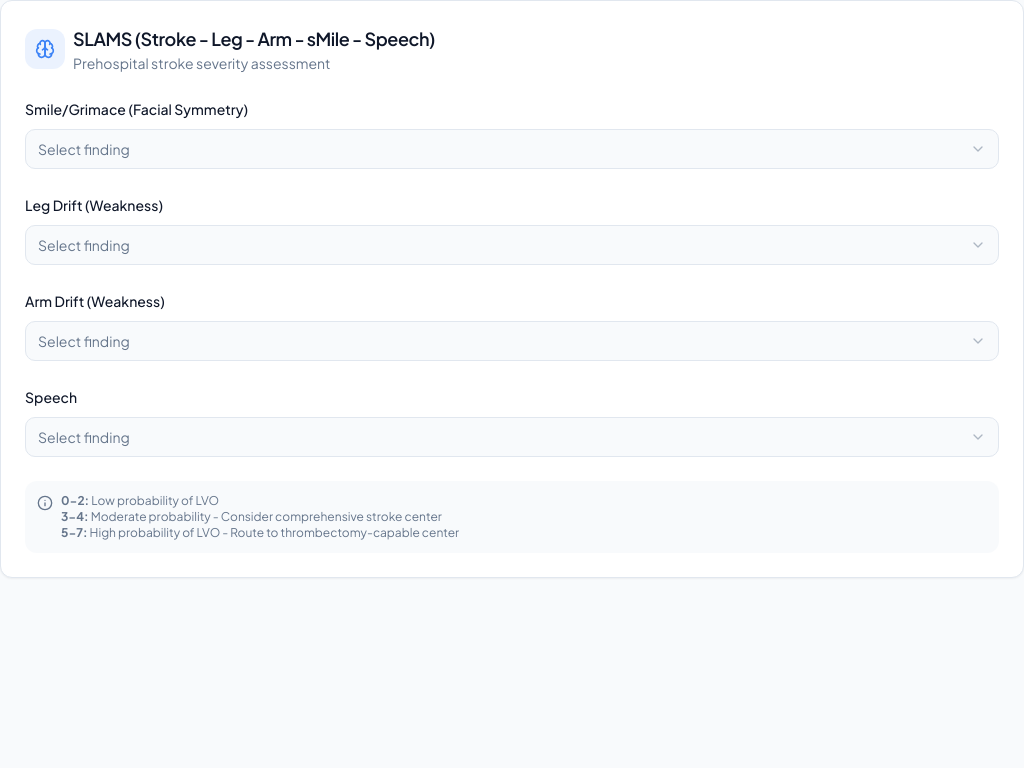
SLAMSCalculator › Scoring Options - Facial Symmetry › provides facial symmetry scoring options (0-1)
Click the dropdown labelled "Select finding" below "Smile/Grimace (Facial Symmetry)": (84, 149) [25,129,999,169]
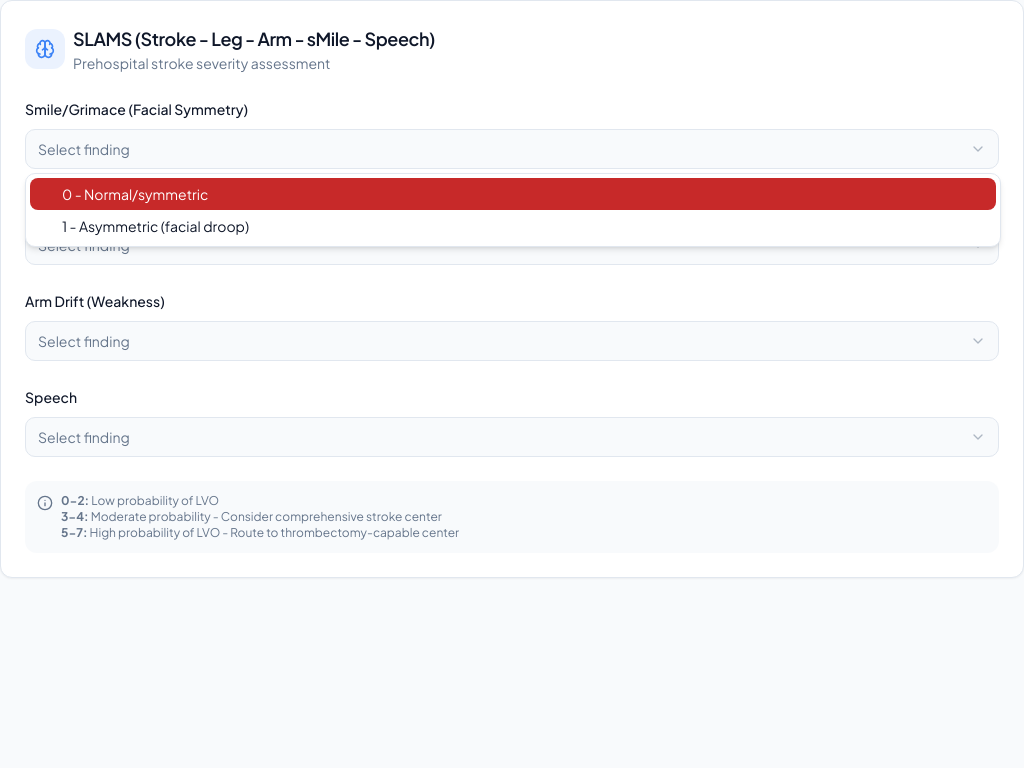
Now the text "0 - Normal/symmetric" is shown, box [62,184,208,204]
Now the text "1 - Asymmetric (facial droop)" is shown, box [62,216,249,236]
